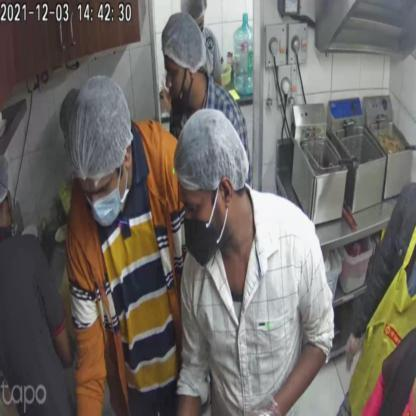no_apron: (181, 188, 320, 416), (73, 122, 181, 406)
